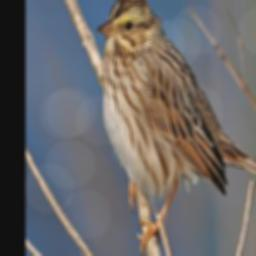Sparrow: (96, 0, 256, 256)
